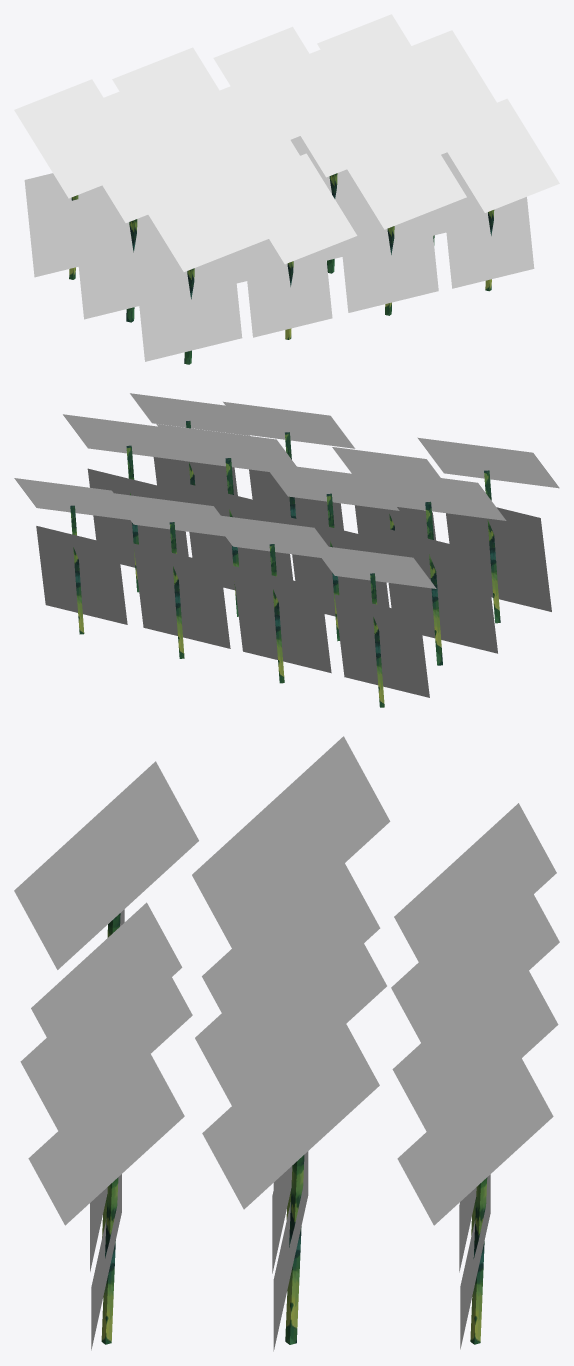
File: Flower_Border.fbx
3 renders of one model, top to bottom at view 1: azimuth 30°, elevation 25°; view 2: azimuth 150°, elevation 25°; view 3: azimuth 270°, elevation 25°, orthographic. The views are drawn at different scales.
Parts seen in each view (by area): view 1: Flower_Border.001; view 2: Flower_Border.001; view 3: Flower_Border.001.
Part boxes in pixels (x1,y1,x2,y2): Flower_Border.001: [14, 14, 559, 364]; Flower_Border.001: [14, 393, 559, 707]; Flower_Border.001: [14, 736, 559, 1351].
Bounding box in the file's own units: 147 × 69.19 × 104.
4 materials, 1 textured.
